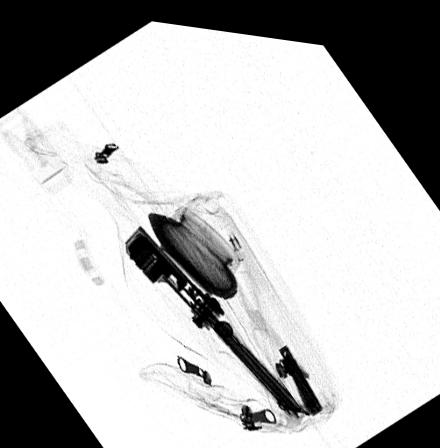Pliers: (124, 219, 305, 408)
